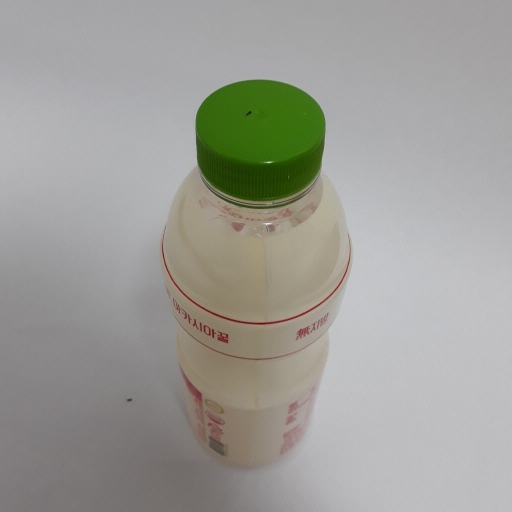Plastic_0: (157, 80, 355, 475)
